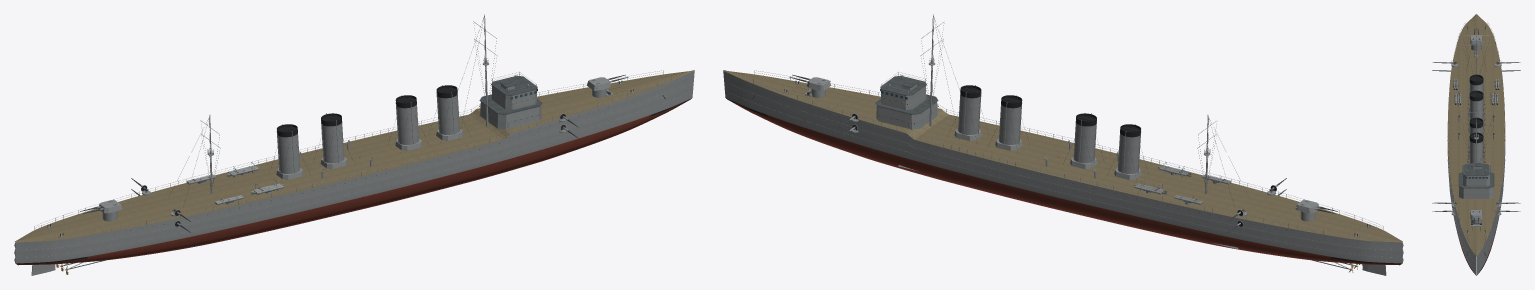
The model's file is omaha.glb.
3 renders of one model, left to right at view 1: azimuth 30°, elevation 25°; view 2: azimuth 150°, elevation 25°; view 3: azimuth 270°, elevation 25°, orthographic. The views are drawn at different scales.
Visible parts, largest first — view 1: Omaha class; view 2: Omaha class; view 3: Omaha class.
Part boxes in pixels (x1,y1,x2,y2): Omaha class: (14,14,694,275); Omaha class: (723,14,1403,275); Omaha class: (1432,14,1520,275).
Bounding box in the file's own units: 169 × 36.34 × 25.55.
9 materials, 8 textured.
